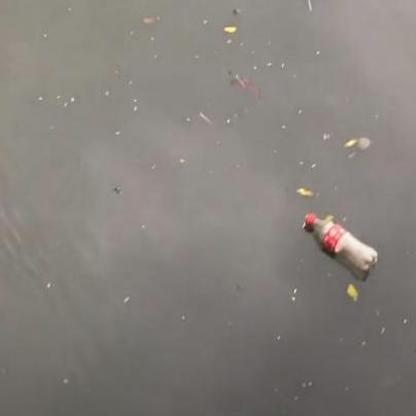plastic bottle: (305, 214, 377, 272)
